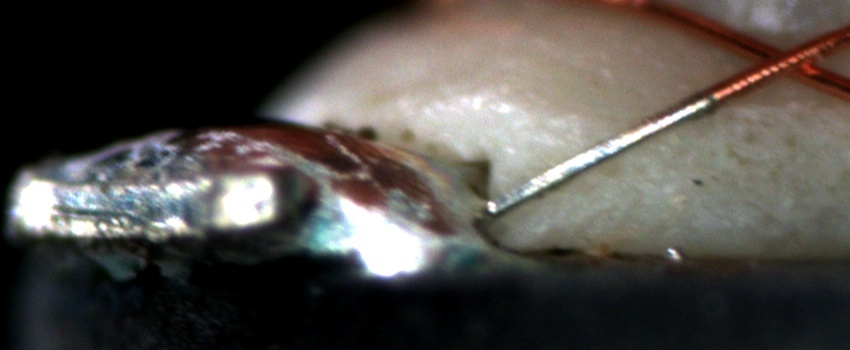CL: (737, 30, 836, 87)
TS: (487, 94, 714, 214)
